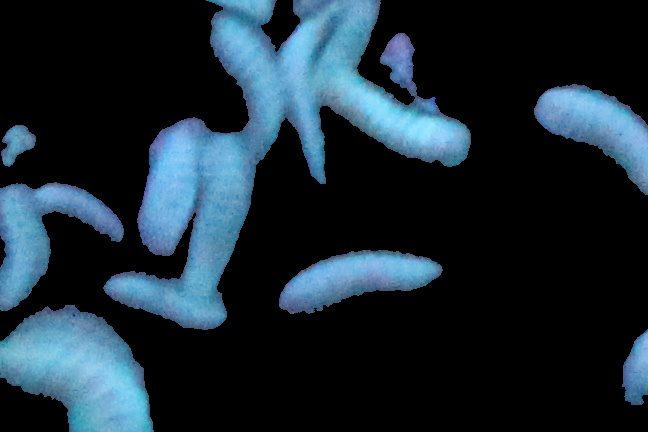larvae: (1, 327, 167, 432), (318, 65, 471, 173), (532, 75, 648, 201), (206, 16, 278, 162), (281, 250, 442, 315), (186, 132, 252, 288), (136, 119, 204, 256), (280, 10, 329, 189), (103, 275, 222, 332), (33, 185, 125, 250), (1, 183, 46, 314), (318, 1, 378, 62)
